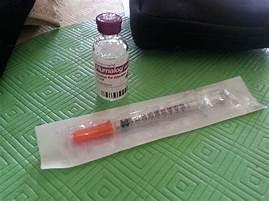Syringe: (91, 8, 132, 102)
